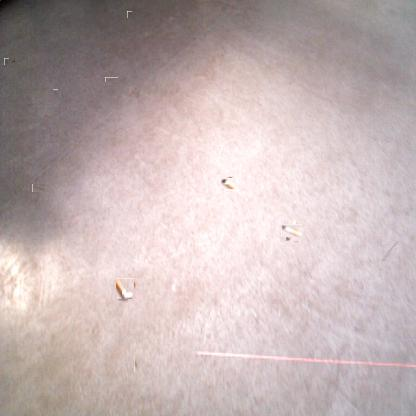dirty: (116, 278, 134, 299), (283, 222, 300, 239), (221, 177, 235, 190)
mark: (380, 242, 400, 260), (128, 87, 140, 98), (34, 183, 44, 194), (107, 75, 116, 84), (134, 356, 139, 372), (10, 56, 16, 64), (52, 89, 58, 96), (4, 58, 9, 65), (127, 11, 132, 18)
